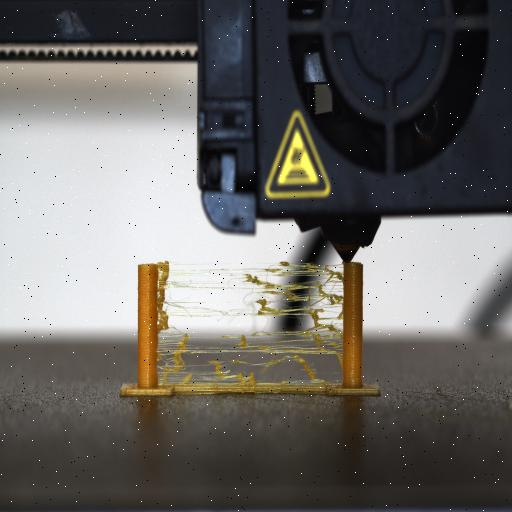stringing: (156, 262, 344, 386)
